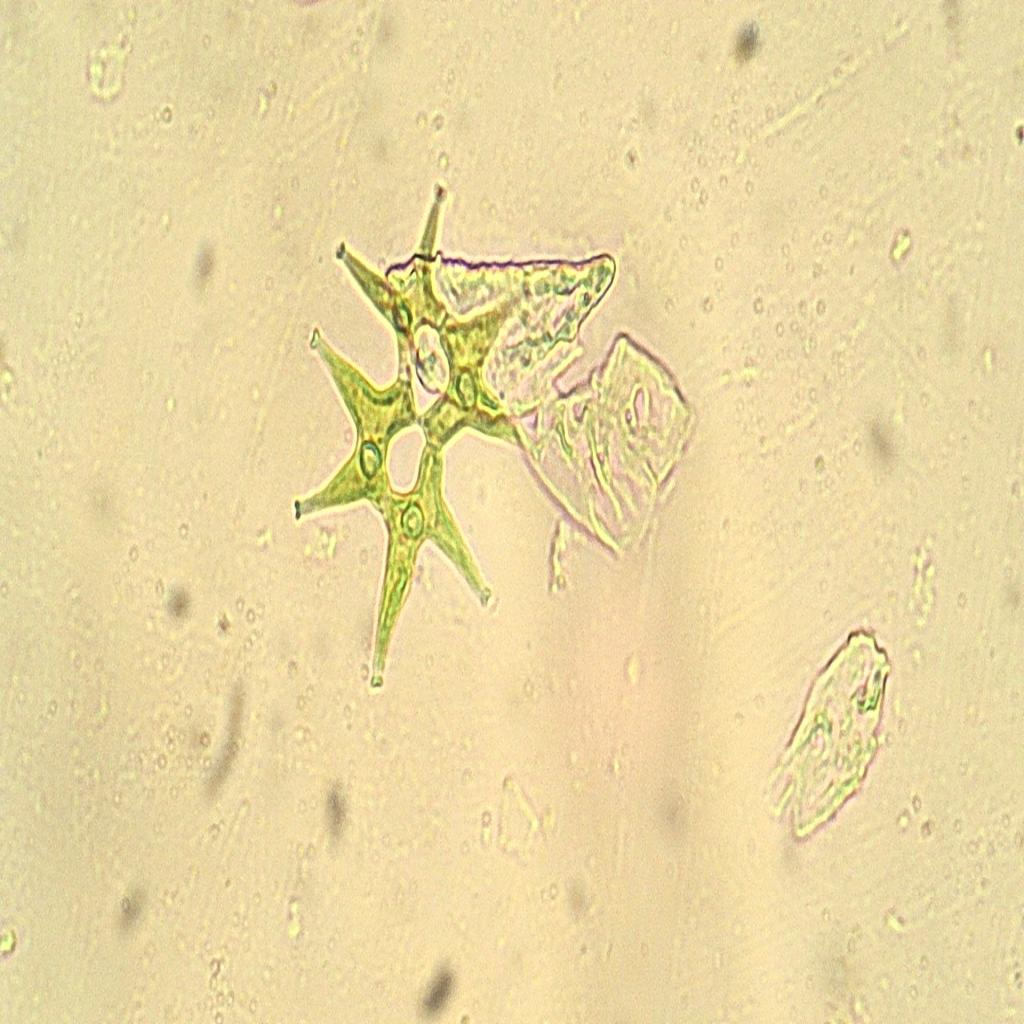Pediastrum_CF: (267, 164, 540, 708)
